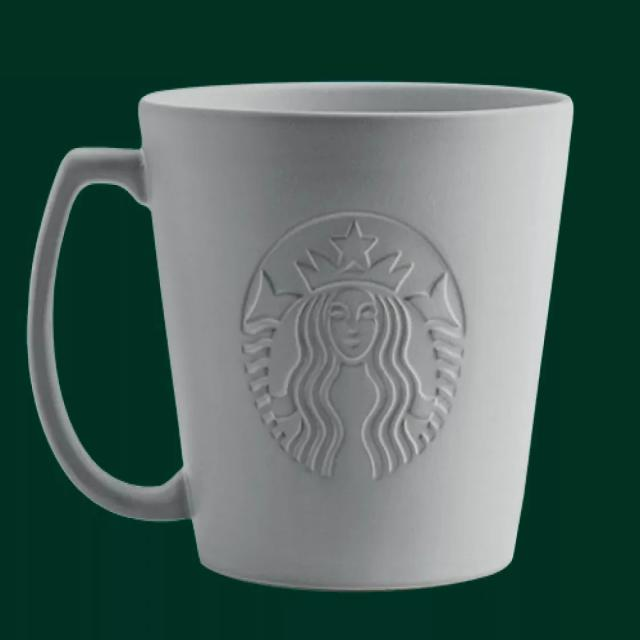starbucks: (238, 210, 470, 487)
